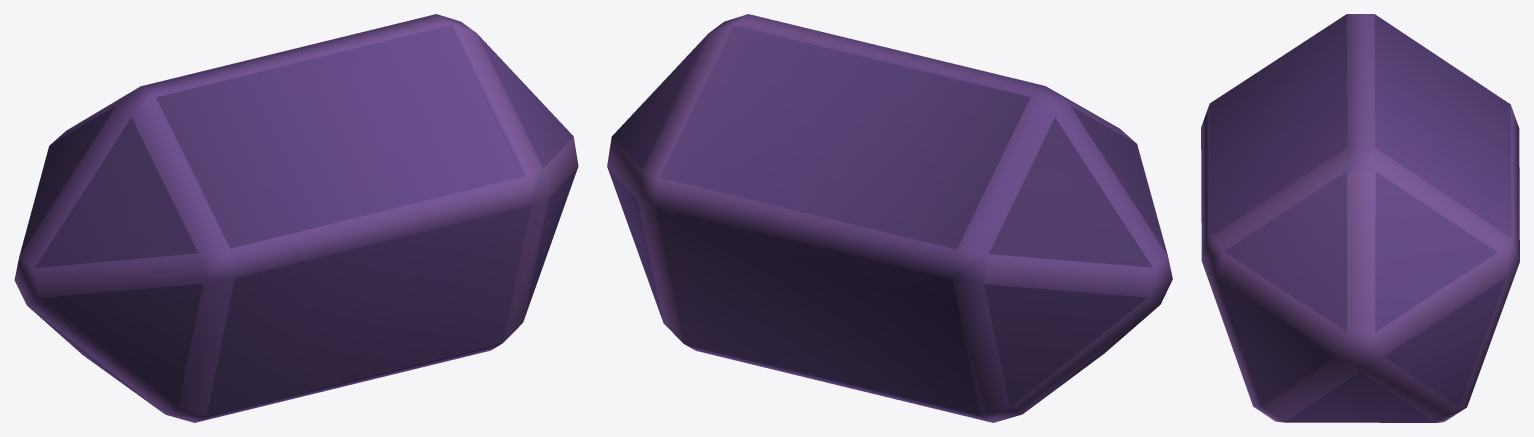
Rendered from christal_amethyst_4.fbx.
3 views of the same model, side by side, from view 1: azimuth 30°, elevation 25°; view 2: azimuth 150°, elevation 25°; view 3: azimuth 270°, elevation 25° (orthographic). The views are drawn at different scales.
Visible parts, largest first — view 1: christal_amethyst_4; view 2: christal_amethyst_4; view 3: christal_amethyst_4.
Boxes of the visible parts, box(x1,y1,x2,y2) form: christal_amethyst_4: box(14, 14, 578, 422); christal_amethyst_4: box(607, 14, 1172, 422); christal_amethyst_4: box(1201, 14, 1519, 422).
Size of the model in its own units: 64.69 by 34.12 by 35.88.
Materials: 1 (1 with a texture image).
